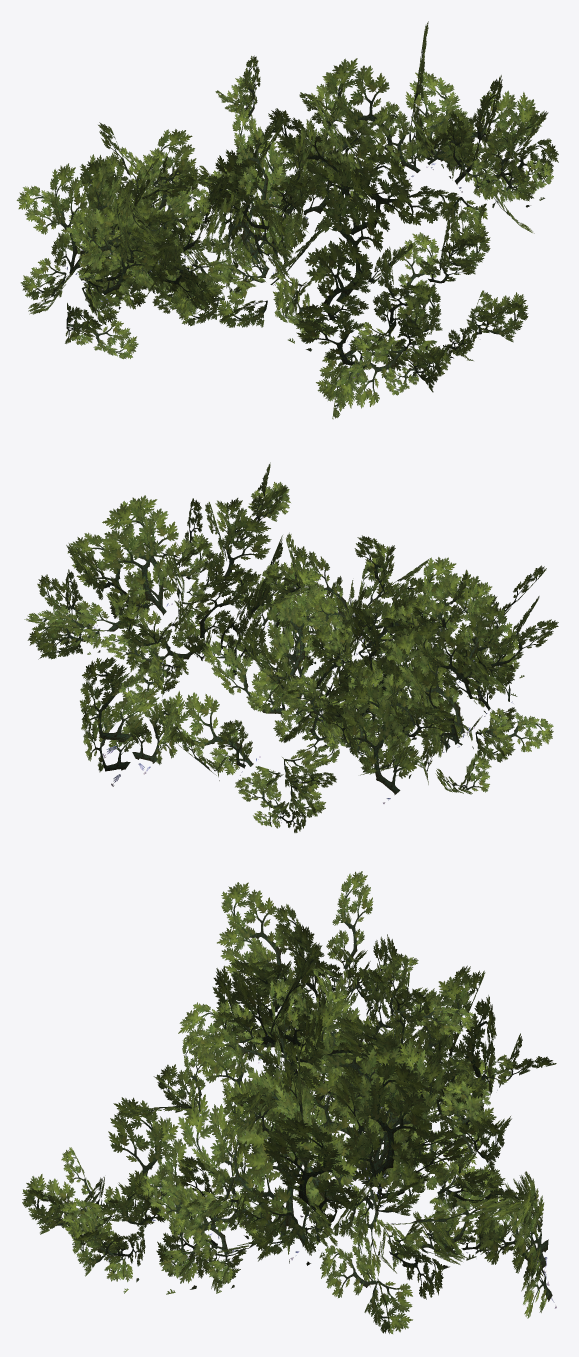
The model's file is Yland2_sy_07 Yland2.FBX.
3 renders of one model, top to bottom at view 1: azimuth 30°, elevation 25°; view 2: azimuth 150°, elevation 25°; view 3: azimuth 270°, elevation 25°, orthographic. The views are drawn at different scales.
Parts seen in each view (by area): view 1: Yland2_sy_07 Yland2; view 2: Yland2_sy_07 Yland2; view 3: Yland2_sy_07 Yland2.
Boxes of the visible parts, x1,y1,x2,y2 form: Yland2_sy_07 Yland2: (16, 21, 558, 419); Yland2_sy_07 Yland2: (24, 462, 558, 832); Yland2_sy_07 Yland2: (22, 871, 556, 1333).
Size of the model in its own units: 33.91 by 18.14 by 26.02.
